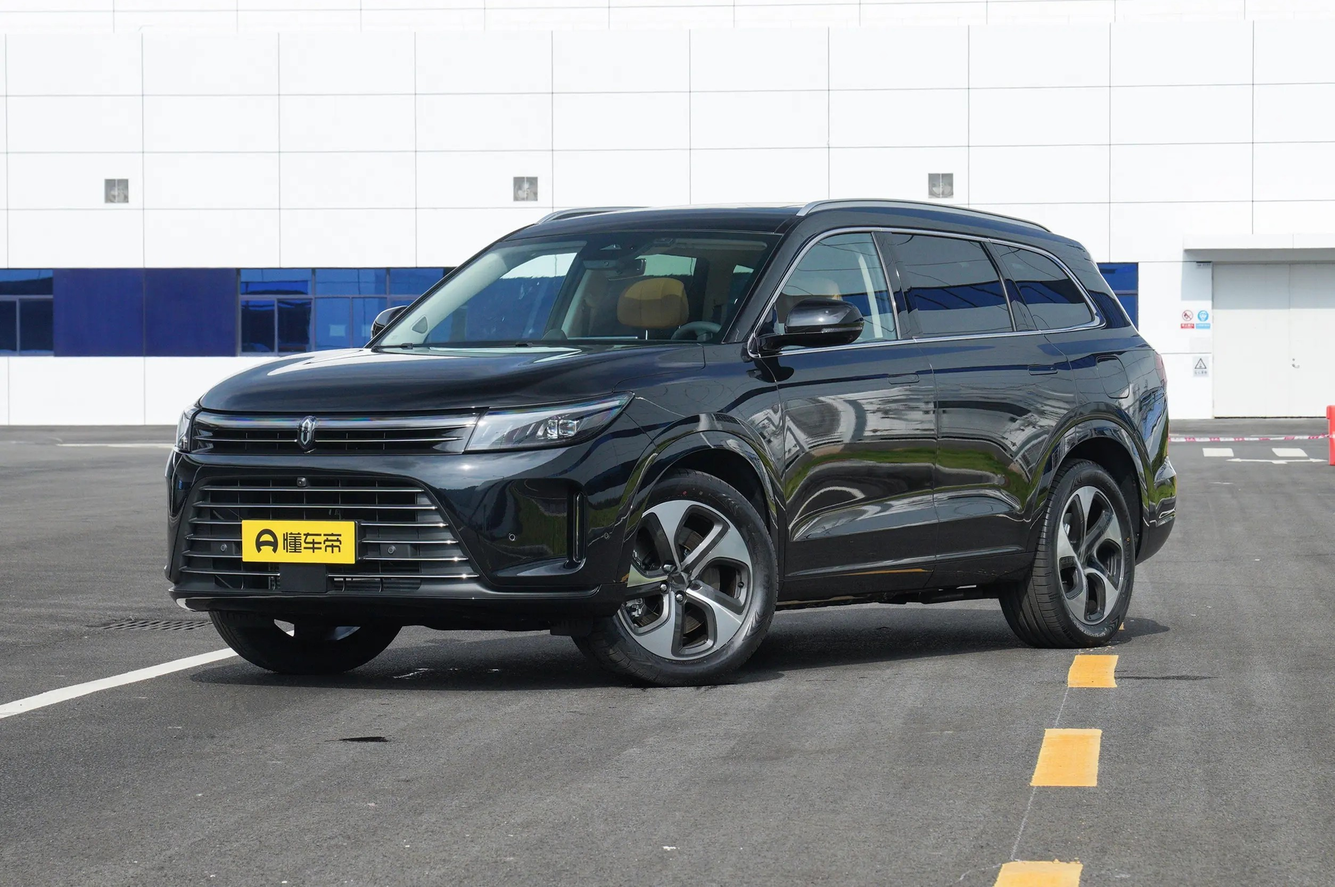AITO: (301, 420, 310, 444)
